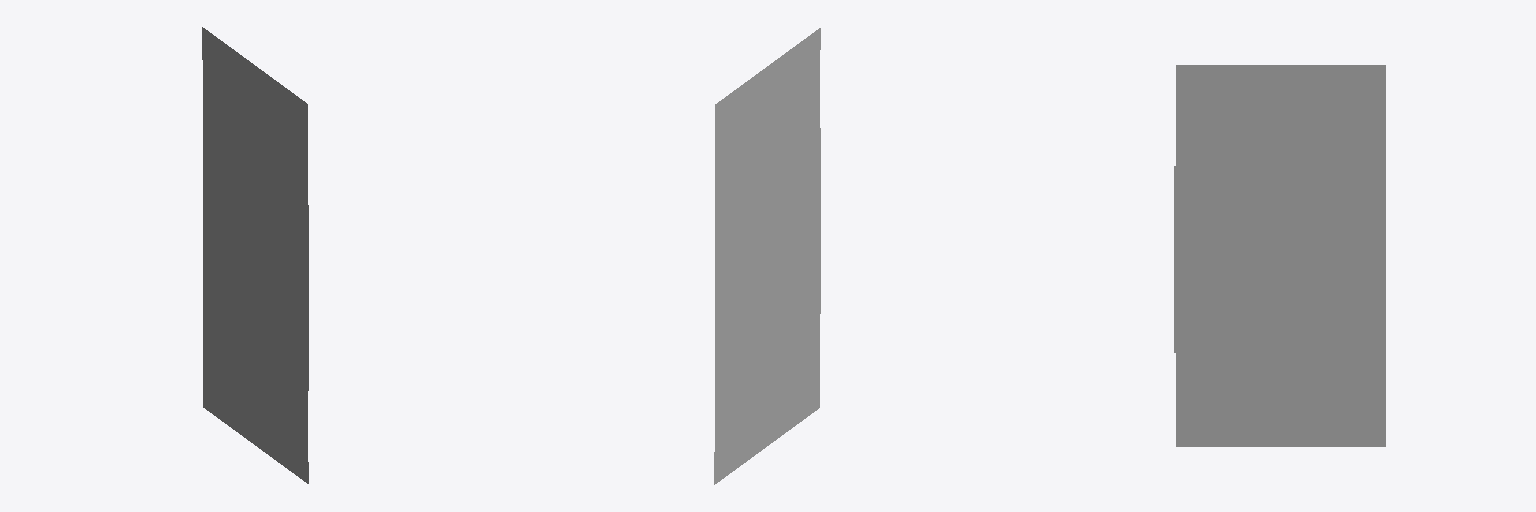
The model's file is newTerrain2.obj.
The picture shows the model from 3 angles: view 1: azimuth 30°, elevation 25°; view 2: azimuth 150°, elevation 25°; view 3: azimuth 270°, elevation 25°; orthographic projection.
Visible parts, largest first — view 1: Plane.001; view 2: Plane.001; view 3: Plane.001.
Part boxes in pixels (left/top/right/bottom): Plane.001: left=202, top=27, right=308, bottom=483; Plane.001: left=714, top=28, right=820, bottom=484; Plane.001: left=1174, top=65, right=1385, bottom=446.
Bounding box in the file's own units: 0.0057 × 2 × 1.01.